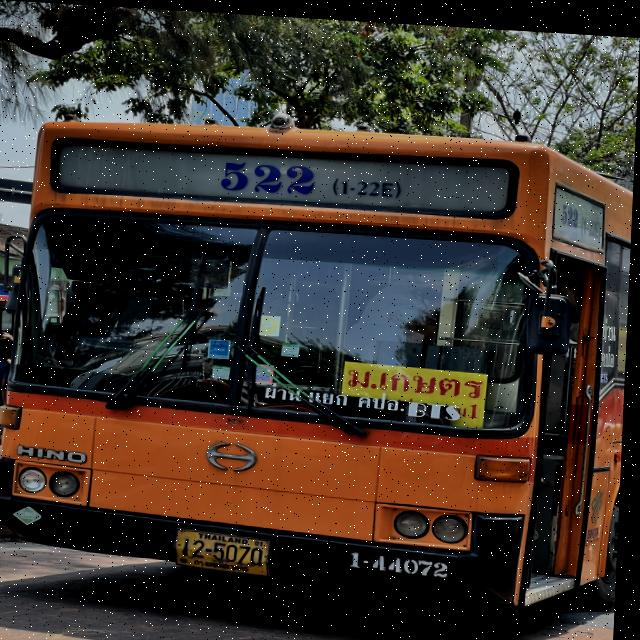BMTA-bus: (0, 119, 635, 604)
Bus Line Number: (210, 151, 419, 203)
Bus Side Number: (341, 541, 463, 580)
Destination Sign: (347, 357, 487, 421)
